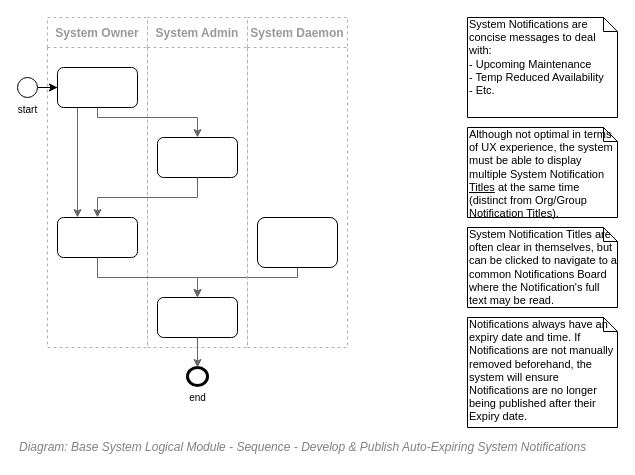
Image size: 635x475. Some labels were removed from this diagram. Here are the shapes that lost their labels. From the top down, the centre of each, then its label:
the point at 97,87: Issue or Expire Notification
the point at 197,157: Develop & Publish Notification
the point at 97,237: Retract or Expire Notification
the point at 297,242: Auto Retire Message @ Expiry Date/ Time
the point at 197,317: Remove Notification
